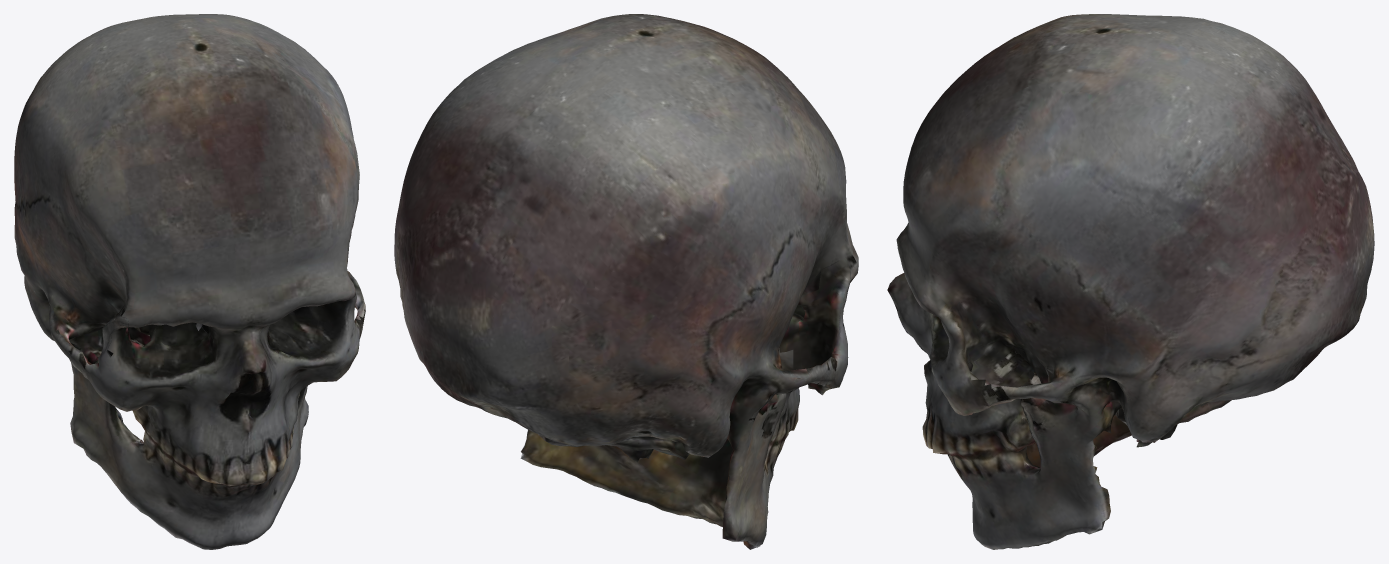
File: preview.glb
3 views of the same model, side by side, from view 1: azimuth 30°, elevation 25°; view 2: azimuth 150°, elevation 25°; view 3: azimuth 270°, elevation 25° (orthographic). The views are drawn at different scales.
Visible parts, largest first — view 1: Skull_LP.001_glb; view 2: Skull_LP.001_glb; view 3: Skull_LP.001_glb.
Boxes of the visible parts, box(x1,y1,x2,y2) form: Skull_LP.001_glb: box(14, 14, 365, 549); Skull_LP.001_glb: box(394, 14, 858, 549); Skull_LP.001_glb: box(887, 14, 1374, 549).
Size of the model in its own units: 0.6968 by 1 by 0.8514.
Materials: 1 (1 with a texture image).
